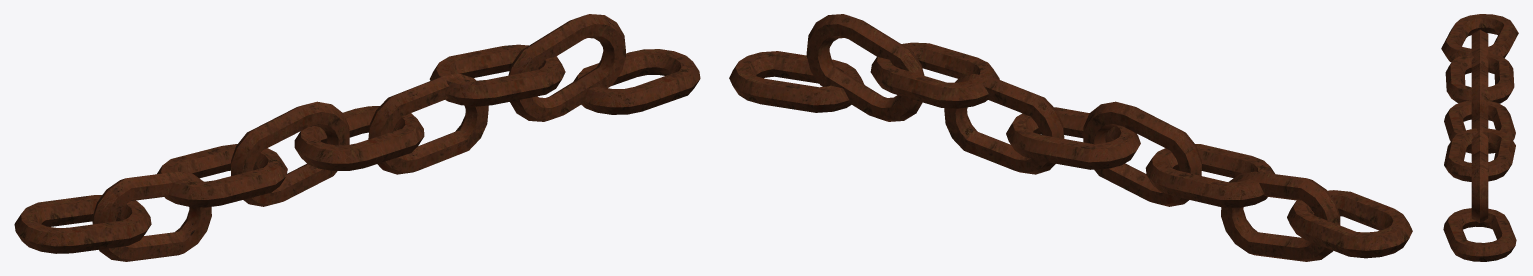
The model's file is chain_3.glb.
3 views of the same model, side by side, from view 1: azimuth 30°, elevation 25°; view 2: azimuth 150°, elevation 25°; view 3: azimuth 270°, elevation 25° (orthographic). The views are drawn at different scales.
Visible parts, largest first — view 1: chain_3; view 2: chain_3; view 3: chain_3.
Boxes of the visible parts, <box> form: chain_3: <box>14,14,700,261</box>; chain_3: <box>729,14,1412,261</box>; chain_3: <box>1441,14,1518,261</box>.
Bounding box in the file's own units: 0.2393 × 0.048 × 0.0324.
Materials: 1 (1 with a texture image).
